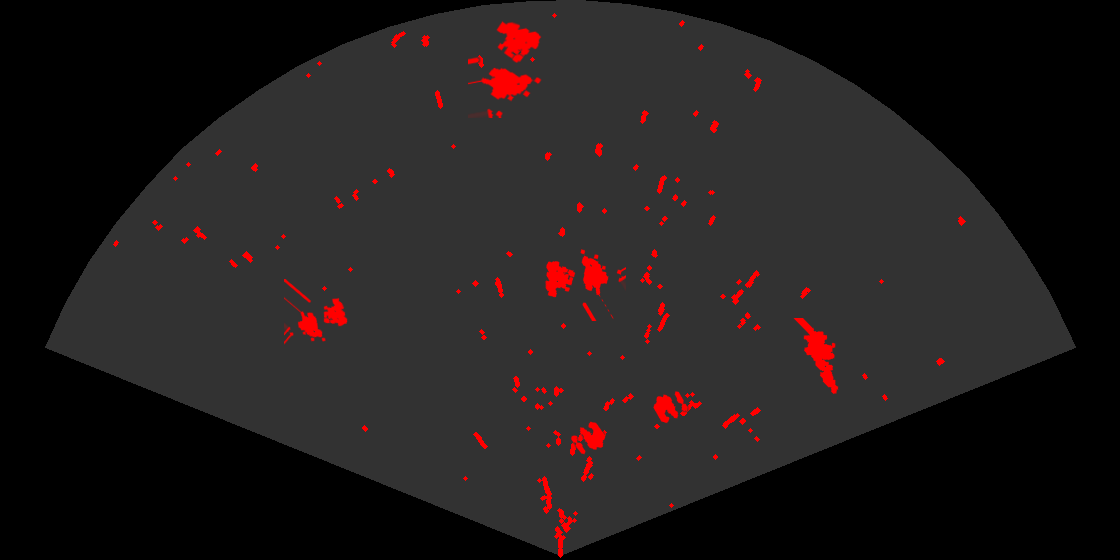ball: (569, 420, 607, 456), (652, 390, 689, 425)
cage: (468, 19, 543, 118), (543, 248, 626, 321), (284, 279, 349, 346)
frogman: (792, 318, 840, 396)
